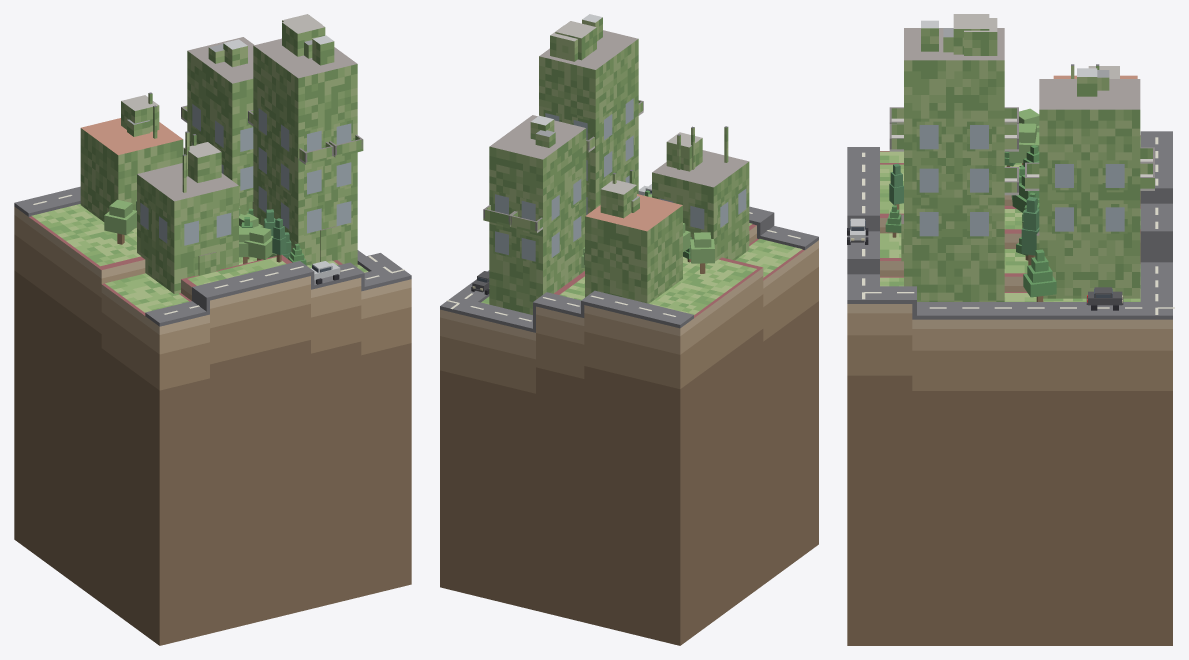
Rendered from block_22_greenfacade_40.glb.
3 views of the same model, side by side, from view 1: azimuth 30°, elevation 25°; view 2: azimuth 150°, elevation 25°; view 3: azimuth 270°, elevation 25° (orthographic). The views are drawn at different scales.
Parts seen in each view (by area): view 1: Patch_UpperRight_b21_GF, ResidBldgs_b22_GF, Roads_UpperRight_b21_GF, Green_UpperRight_b22_GF, URTree_22_2_GF, URTree_22_7_GF; view 2: Patch_UpperRight_b21_GF, ResidBldgs_b22_GF, Roads_UpperRight_b21_GF, Green_UpperRight_b22_GF, URTree_22_2_GF; view 3: Patch_UpperRight_b21_GF, ResidBldgs_b22_GF, Roads_UpperRight_b21_GF, Green_UpperRight_b22_GF, URTree_22_21_GF, URTree_22_17_GF, RoadMarks_UpperRight_b21_GF, URTree_22_4_GF, RCar_12_GF, URTree_22_11_GF, RCar_8_GF.
Boxes of the visible parts, bbox=[...] form: Patch_UpperRight_b21_GF: bbox=[14, 206, 411, 645]; ResidBldgs_b22_GF: bbox=[80, 14, 363, 293]; Roads_UpperRight_b21_GF: bbox=[14, 186, 411, 326]; Green_UpperRight_b22_GF: bbox=[31, 204, 368, 312]; URTree_22_2_GF: bbox=[104, 199, 136, 244]; URTree_22_7_GF: bbox=[244, 226, 273, 260]; Patch_UpperRight_b21_GF: bbox=[440, 224, 818, 645]; ResidBldgs_b22_GF: bbox=[483, 14, 749, 314]; Roads_UpperRight_b21_GF: bbox=[440, 206, 818, 332]; Green_UpperRight_b22_GF: bbox=[481, 223, 802, 314]; URTree_22_2_GF: bbox=[690, 232, 714, 273]; Patch_UpperRight_b21_GF: bbox=[847, 135, 1172, 645]; ResidBldgs_b22_GF: bbox=[889, 14, 1154, 301]; Roads_UpperRight_b21_GF: bbox=[847, 131, 1172, 319]; Green_UpperRight_b22_GF: bbox=[880, 136, 1140, 301]; URTree_22_21_GF: bbox=[1023, 249, 1056, 301]; URTree_22_17_GF: bbox=[1021, 196, 1039, 265]; RoadMarks_UpperRight_b21_GF: bbox=[862, 137, 1174, 314]; URTree_22_4_GF: bbox=[1009, 123, 1039, 164]; RCar_12_GF: bbox=[1086, 287, 1123, 310]; URTree_22_11_GF: bbox=[889, 163, 903, 209]; RCar_8_GF: bbox=[847, 218, 868, 244].
Bounding box in the file's own units: 9.5 × 19.17 × 9.55.
